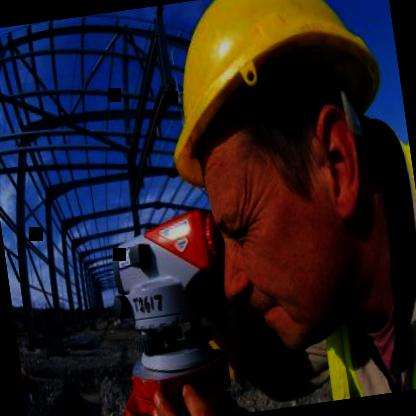helmet: (144, 0, 416, 369)
